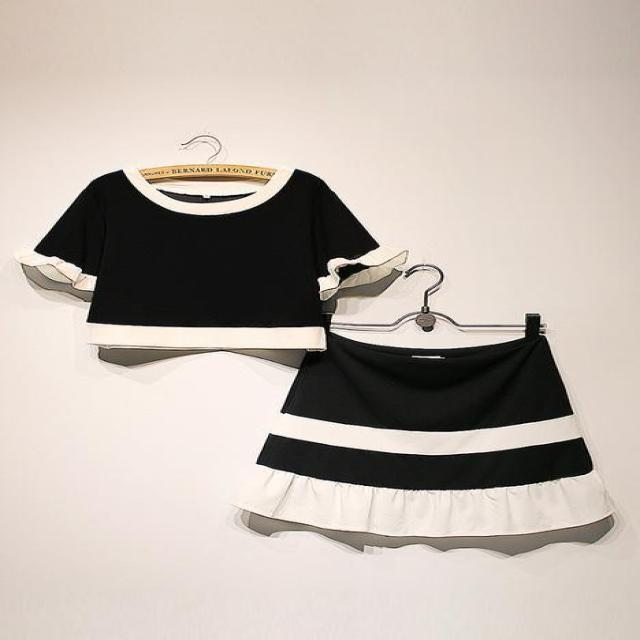short sleeve top: (15, 169, 408, 352)
skirt: (232, 331, 614, 538)
